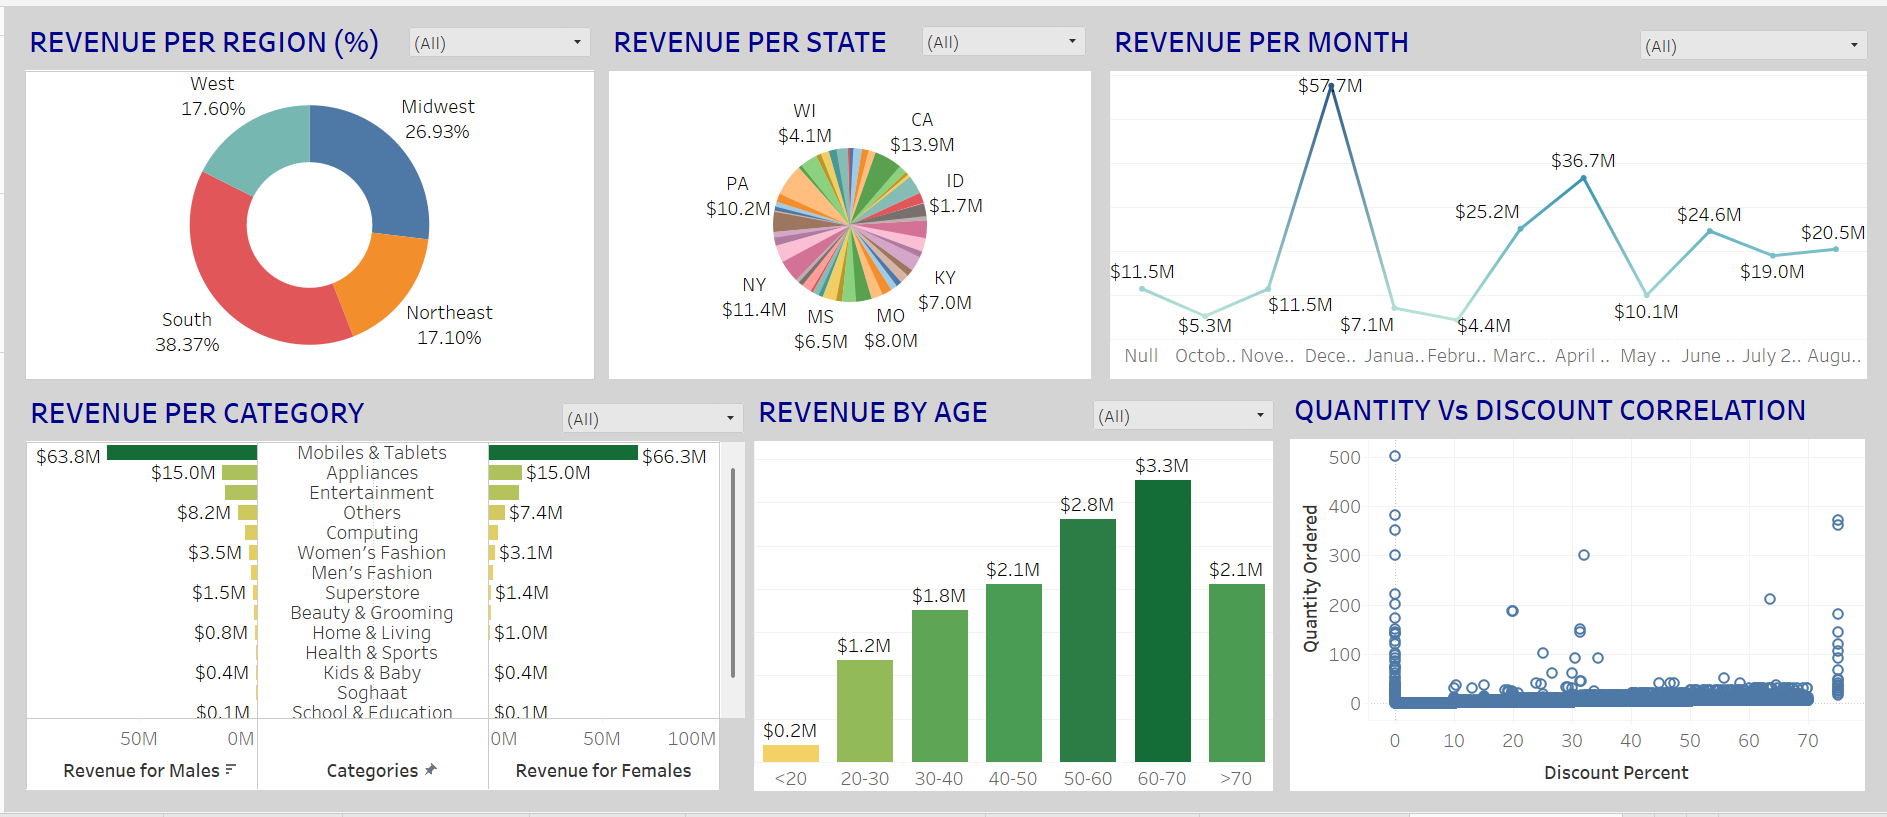

The dashboard page shown, as its layout file describes it:
{"tool":"tableau","page":{"name":"My Sales Dashboard","canvas":[1000,1000],"units":"permille","ordinal":0},"visuals":[{"type":"worksheet","title":"% Revenue per Region","mark":"Pie","rows":["Calculation_998954750056755203","Calculation_998954750056755203"],"box":[10.6,13.7,303,450.4]},{"type":"worksheet","title":"Revenue Per State","mark":"Pie","box":[321.1,13.7,256.2,449.1]},{"type":"worksheet","title":"Revenue Per Month","mark":"Automatic","rows":["total"],"cols":["month"],"box":[587.3,13.7,402.1,449.1]},{"type":"filter","title":"Revenue by Age","param":"[federated.17vzoqb0uy6kks19izl8n02ihrt0].[none:Age (bin):ok]","box":[576.5,452.9,99.4,83.1]},{"type":"filter","title":"Revenue Per Category","param":"[federated.17vzoqb0uy6kks19izl8n02ihrt0].[none:category:nk]","box":[294.4,457.8,99.9,75.7]},{"type":"worksheet","title":"Quantity Vs Discount Correlation","mark":"Automatic","rows":["qty_ordered"],"cols":["Discount_Percent"],"box":[682.8,470.2,305.5,503.7]},{"type":"worksheet","title":"Revenue by Age","mark":"Automatic","rows":["age"],"cols":["Age (bin)"],"box":[397.8,472.7,276.2,501.2]},{"type":"worksheet","title":"Revenue Per Category","mark":"Automatic","rows":["category"],"cols":["Calculation_998954750002372609","Calculation_998954750003204098","Calculation_998954750001659904"],"box":[11.2,473.9,382,498.8]}]}

Visuals, with their boxes on the dashboard's canvas, which has no fixed pixel size, in thousandths of its width and height (x1, y1, x2, y2). These are canvas units, not pixel positions in the 1887x817 screenshot, which may show the page scaled, cropped or inside an application window:
"% Revenue per Region" worksheet (Pie marks): detection(11, 14, 314, 464)
"Revenue Per State" worksheet (Pie marks): detection(321, 14, 577, 463)
"Revenue Per Month" worksheet: detection(587, 14, 989, 463)
"Revenue by Age" filter: detection(576, 453, 676, 536)
"Revenue Per Category" filter: detection(294, 458, 394, 534)
"Quantity Vs Discount Correlation" worksheet: detection(683, 470, 988, 974)
"Revenue by Age" worksheet: detection(398, 473, 674, 974)
"Revenue Per Category" worksheet: detection(11, 474, 393, 973)
